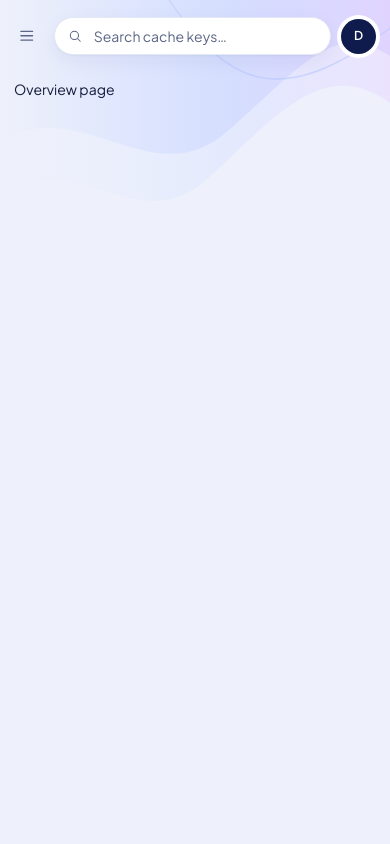
Test: Responsive navigation drawer › closes after choosing a destination
Expected: the text "Overview page" is shown, [14, 80, 115, 98]
Click the button named "Open navigation" at (26, 36), box [9, 18, 44, 54]
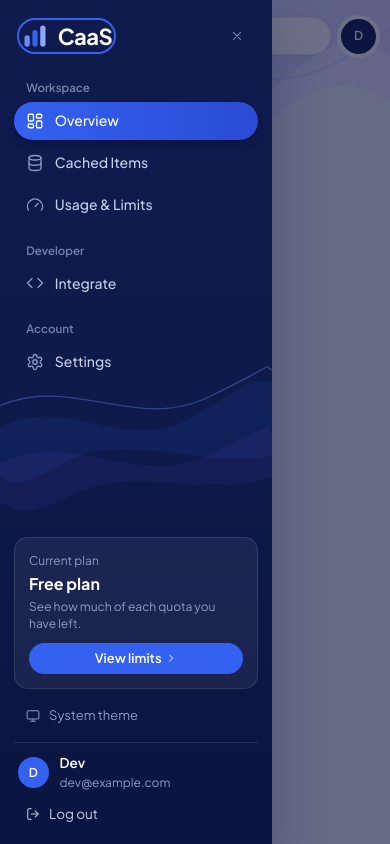
Click the link "Usage & Limits" at (90, 205), box [26, 195, 153, 214]
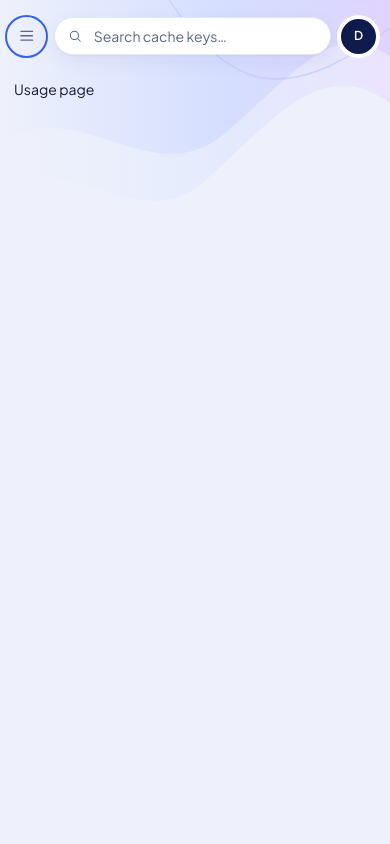
Now the text "Usage page" is shown, box [14, 80, 94, 98]
Now the button "Navigation" is gone
